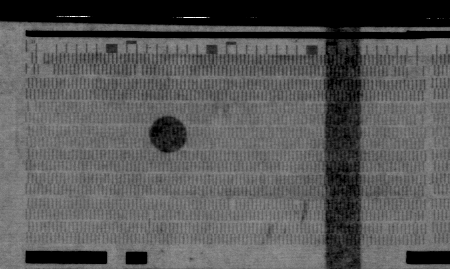Broken hole: (22, 51, 57, 78), (404, 54, 428, 77), (133, 64, 145, 78), (215, 101, 227, 115), (385, 65, 397, 77), (227, 200, 238, 213), (414, 115, 425, 126)
Oblique printing: (144, 210, 157, 227), (290, 199, 304, 211)
